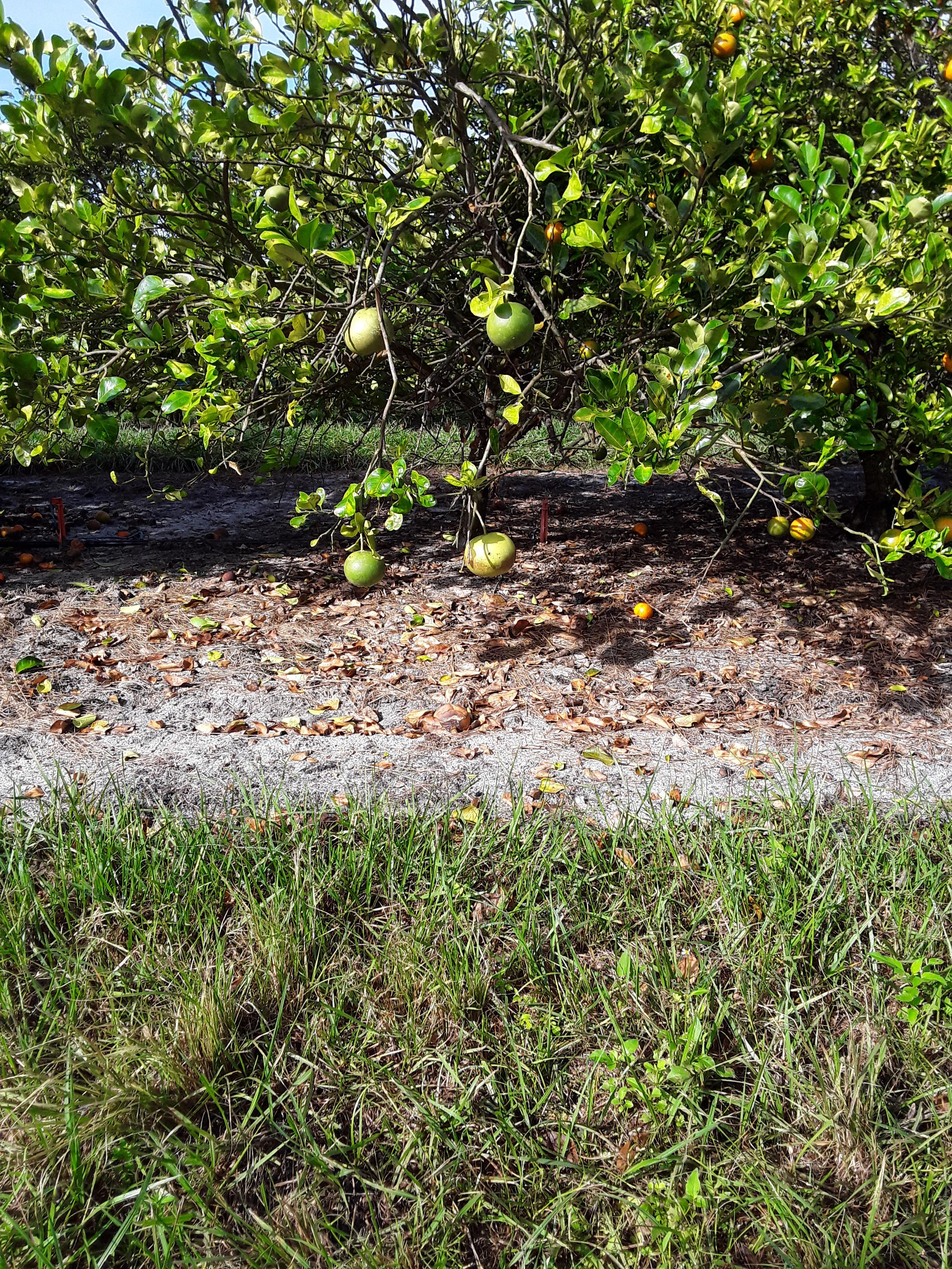fruit_on_ground: (460, 528, 519, 579), (483, 298, 536, 350), (341, 304, 392, 358), (339, 545, 387, 589), (420, 134, 463, 172), (873, 524, 910, 558), (744, 143, 778, 175), (537, 216, 569, 247), (262, 182, 294, 213), (709, 29, 740, 60), (788, 514, 819, 544), (826, 369, 856, 397), (763, 513, 792, 541), (930, 512, 952, 546), (767, 391, 794, 417), (576, 334, 602, 360), (721, 3, 751, 25), (938, 344, 952, 375), (588, 443, 608, 463), (941, 51, 952, 86)
fruit_on_tree: (435, 702, 472, 732), (630, 599, 655, 621), (630, 519, 649, 537), (211, 524, 230, 541), (67, 537, 85, 554), (7, 521, 25, 536), (1, 523, 18, 538), (17, 551, 35, 565), (96, 508, 111, 523), (86, 517, 101, 531), (115, 526, 131, 539), (220, 569, 236, 582), (38, 558, 53, 571), (493, 498, 506, 511), (0, 568, 9, 586), (30, 509, 44, 520), (557, 505, 565, 514)
